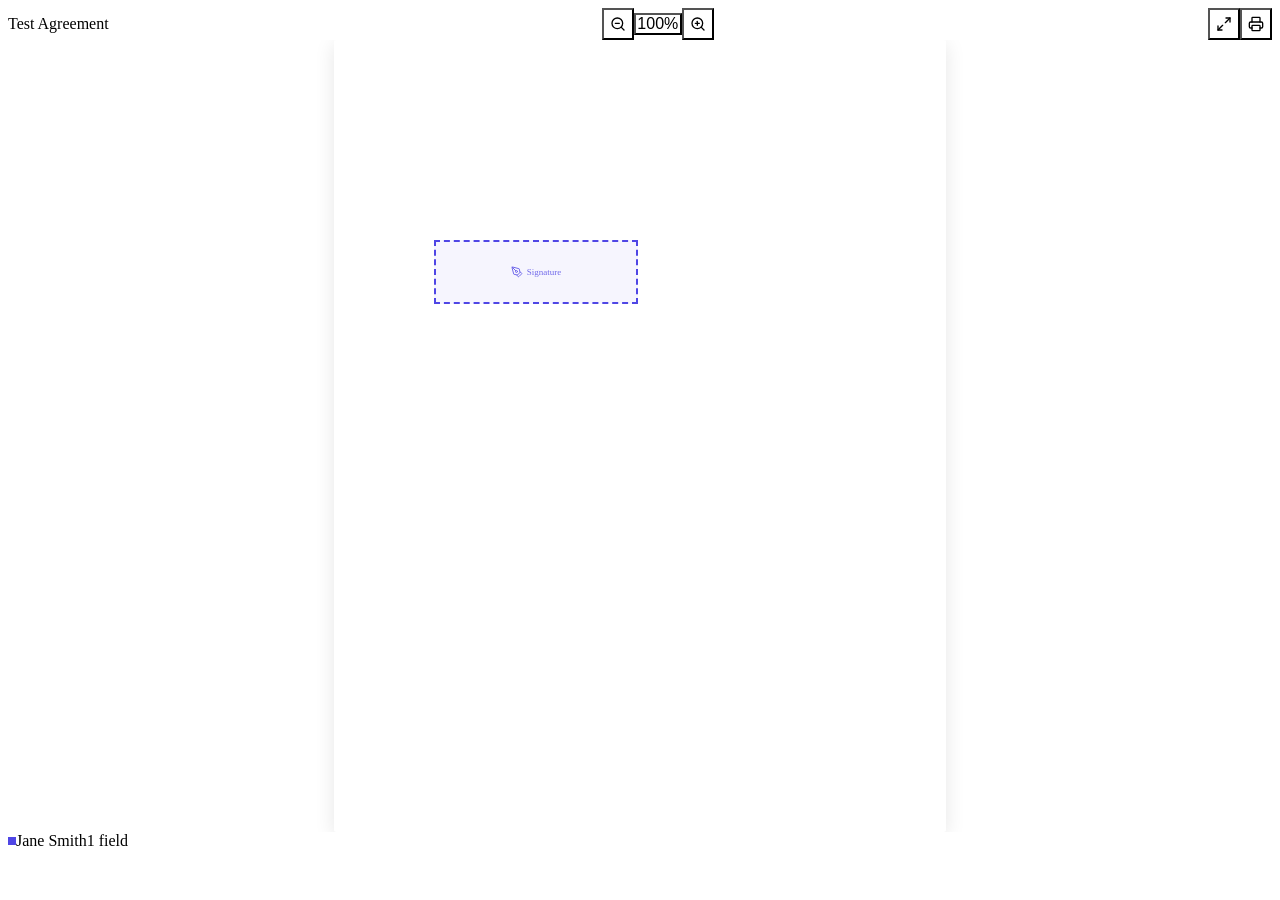
Test case: DocumentPreview › zoom out button decreases zoom level
# First zoom in, then zoom out
Click the button named "Zoom in".
click(698, 24)  # box [682, 8, 714, 40]
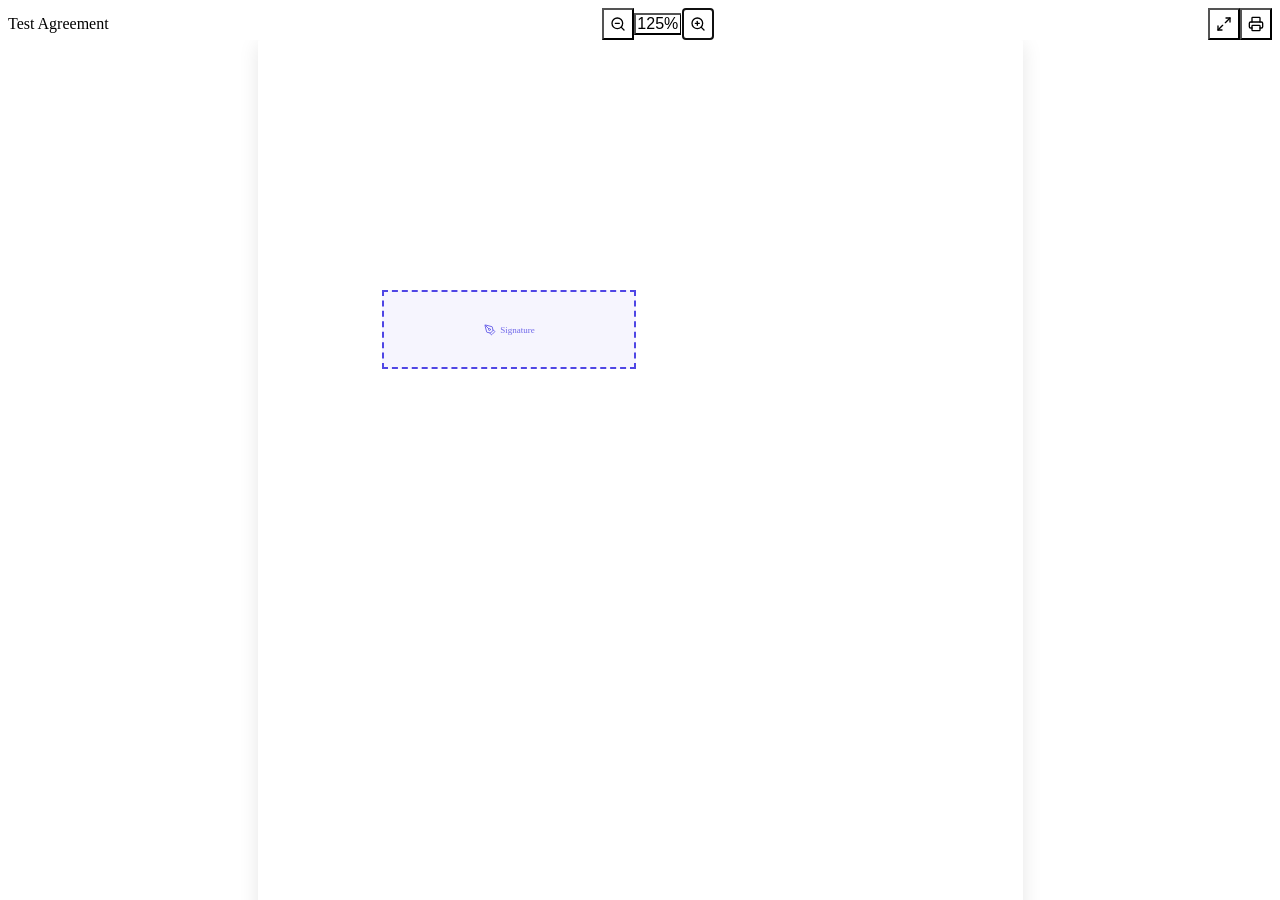
Click the button named "Zoom out".
click(618, 24)  # box [602, 8, 634, 40]
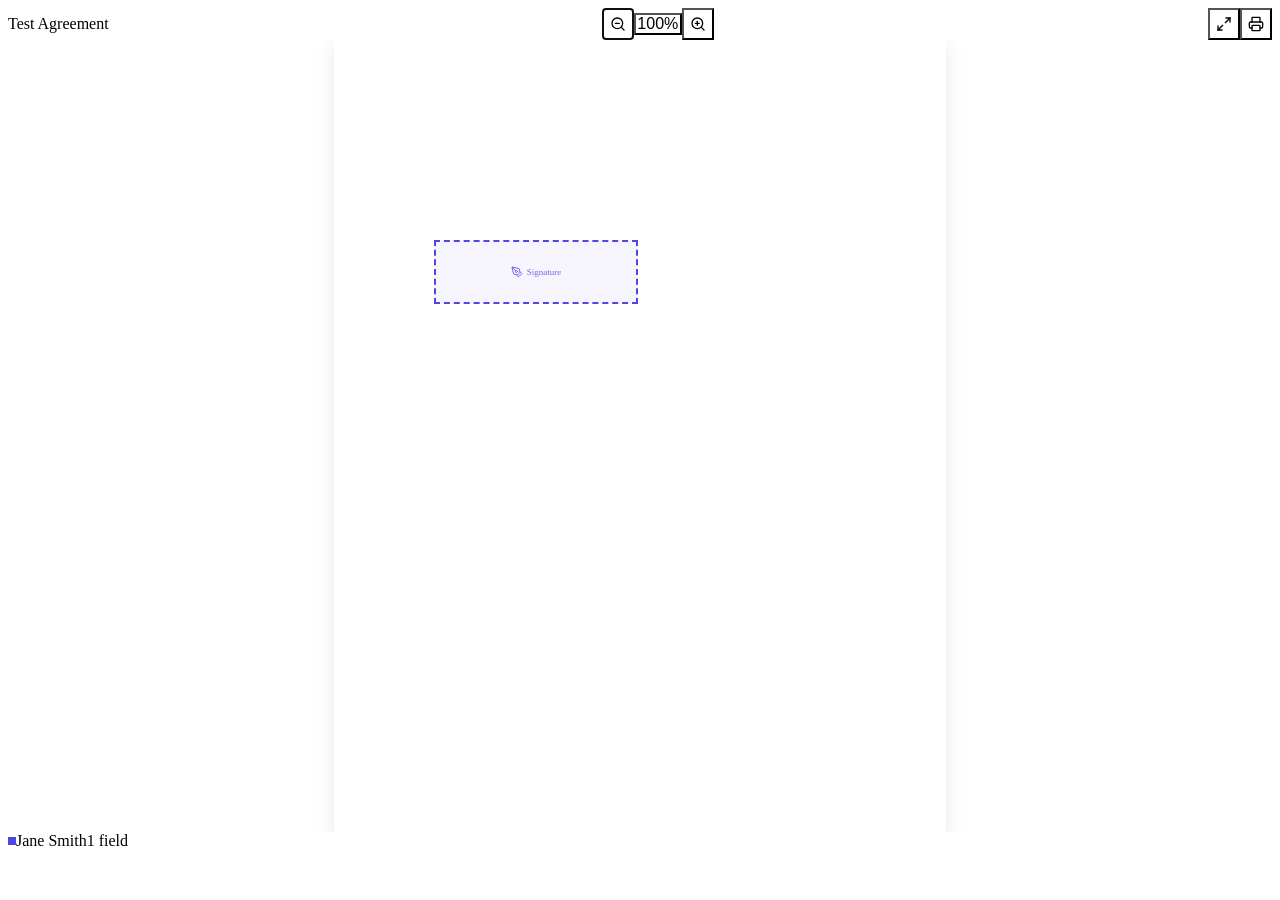
Expected: the button named "Reset zoom" reads "100%", [634, 13, 682, 35]
